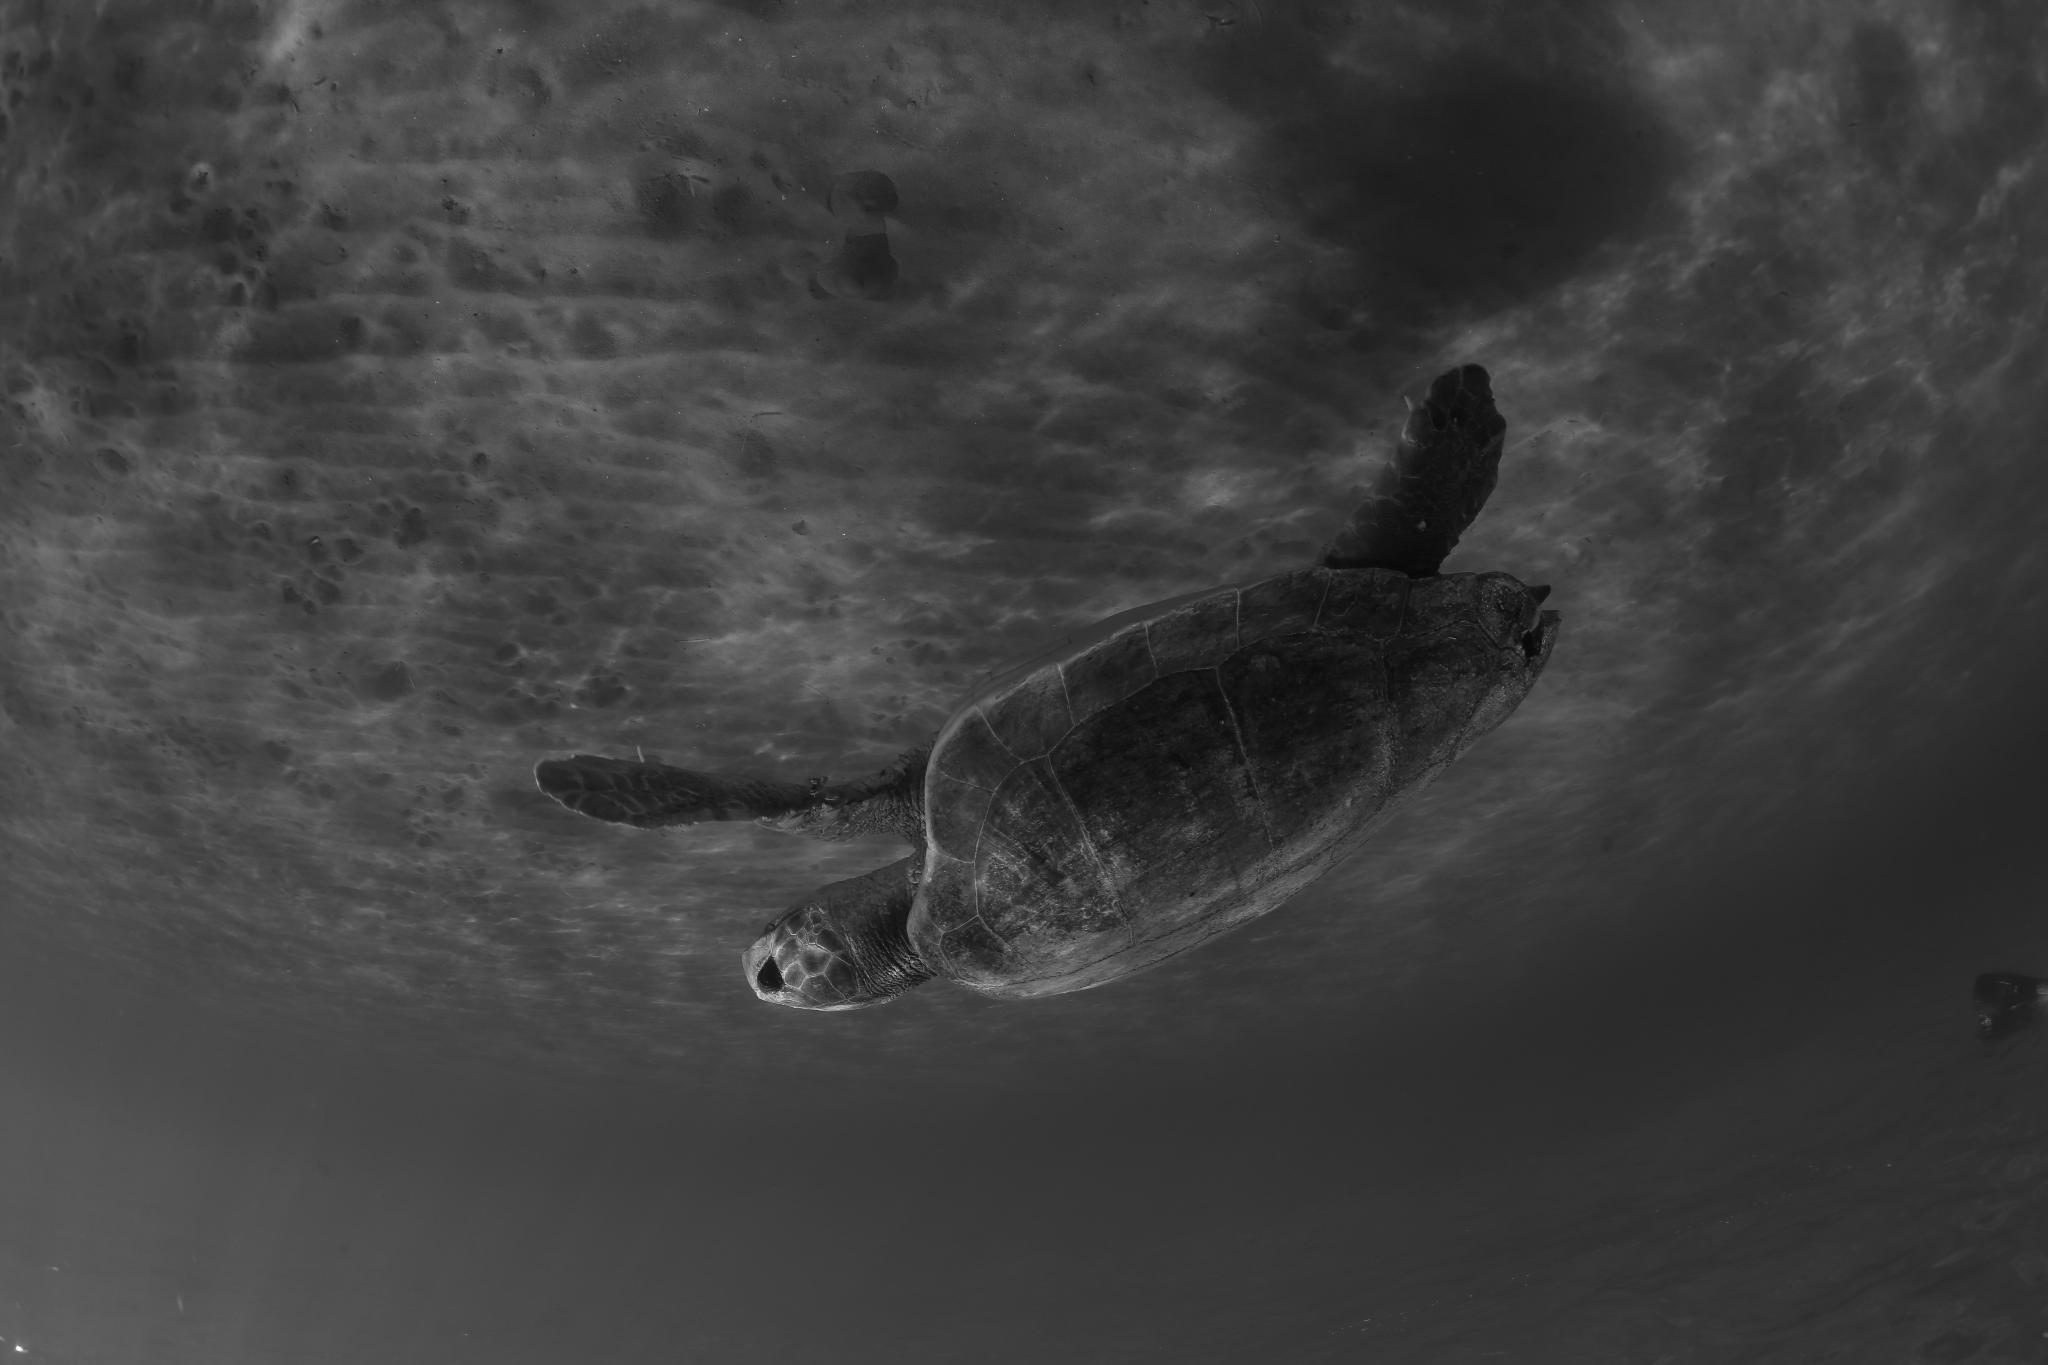Head: (743, 855, 935, 1011)
